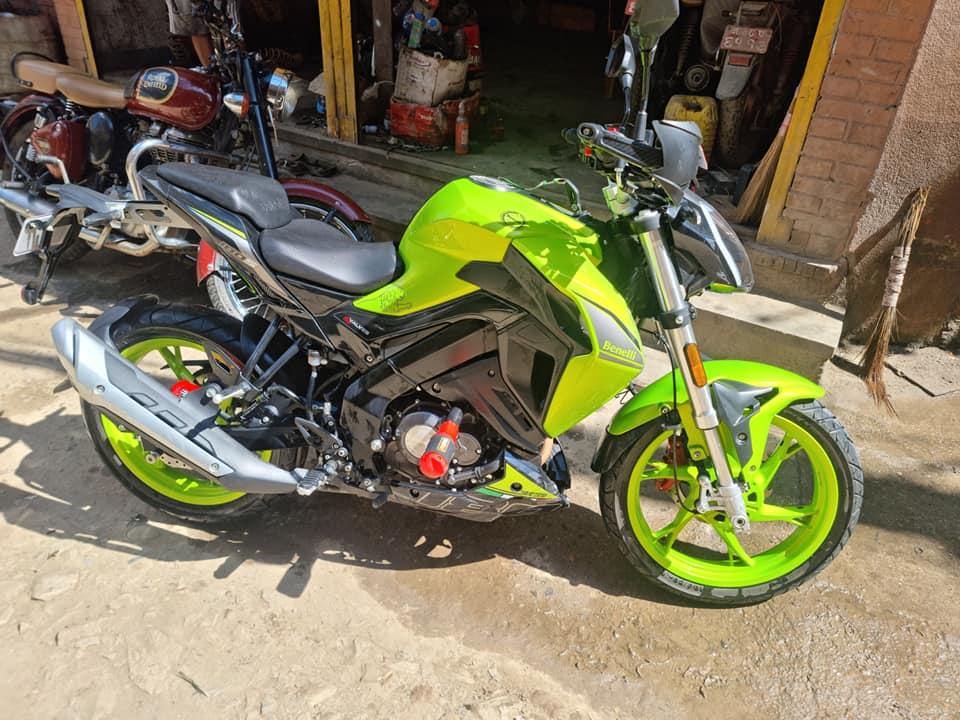bike: (49, 28, 867, 611)
